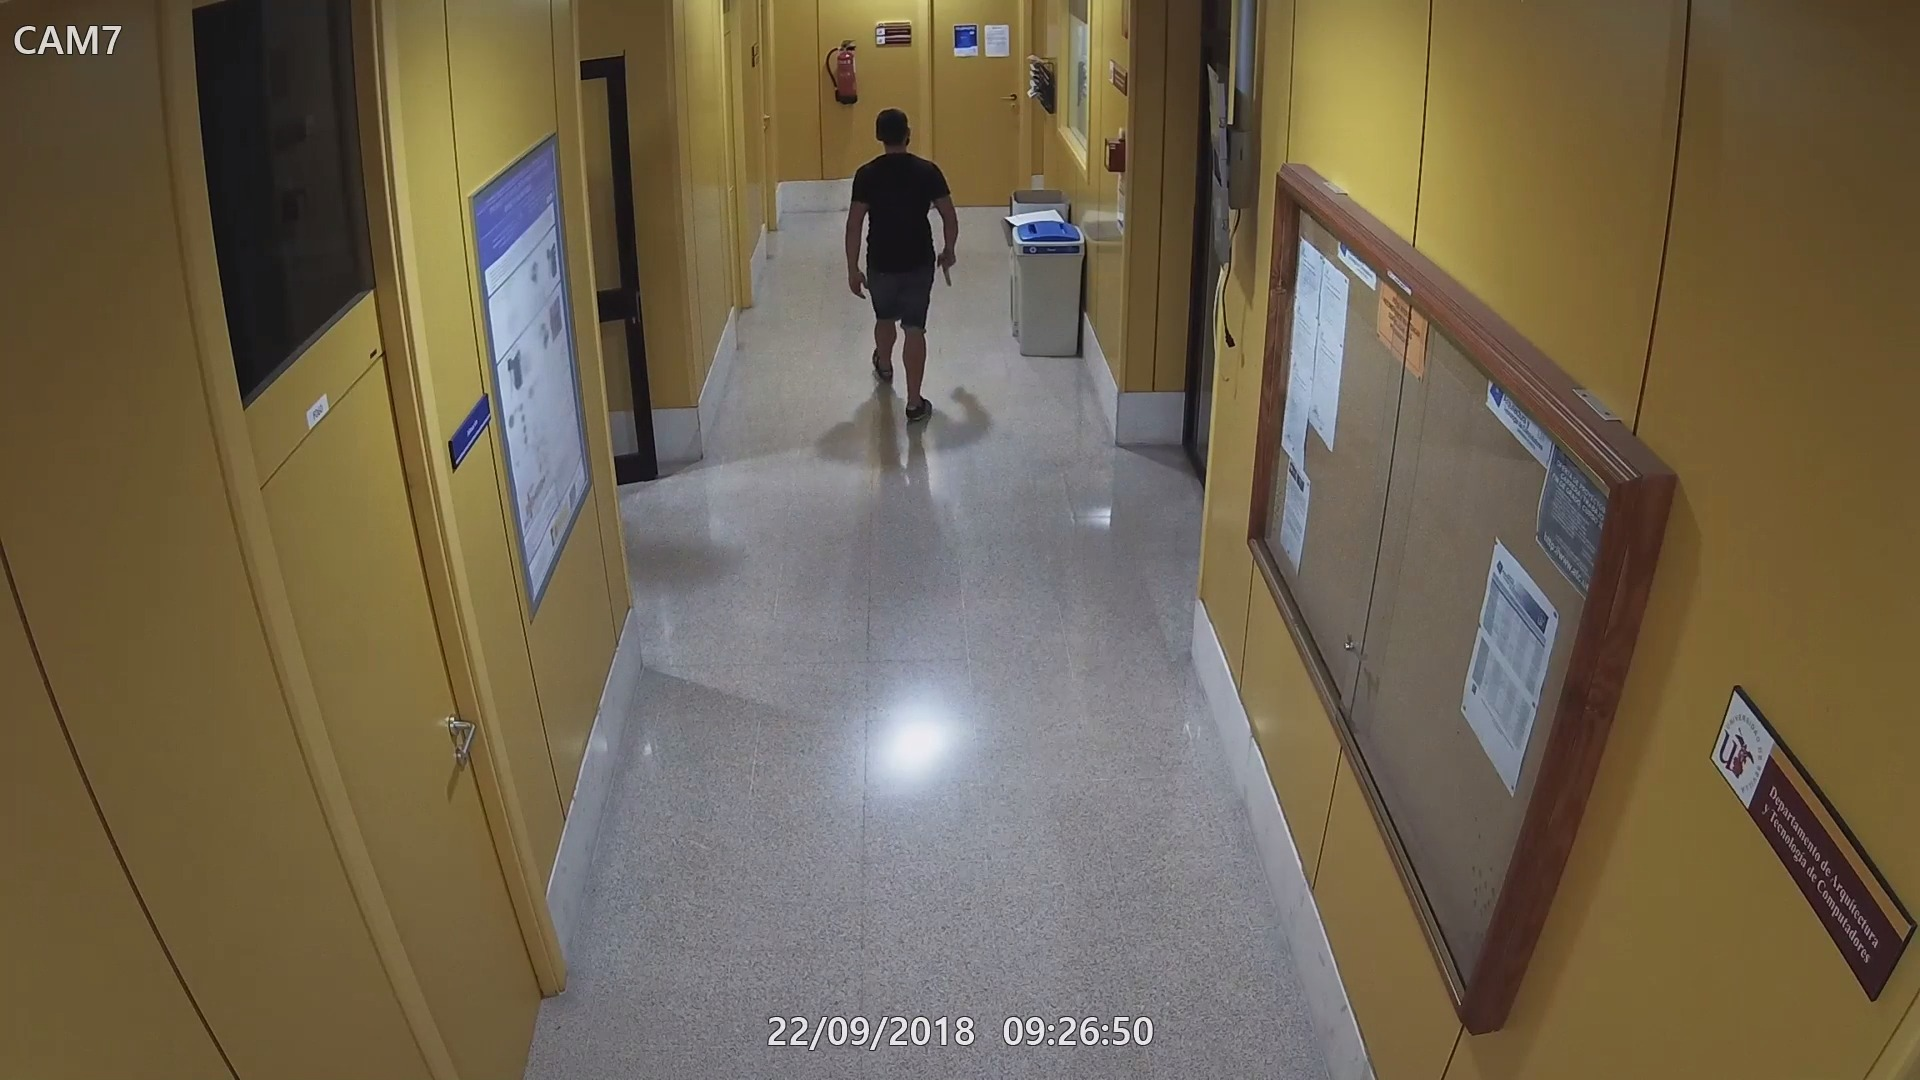Handgun: (934, 248, 961, 286)
